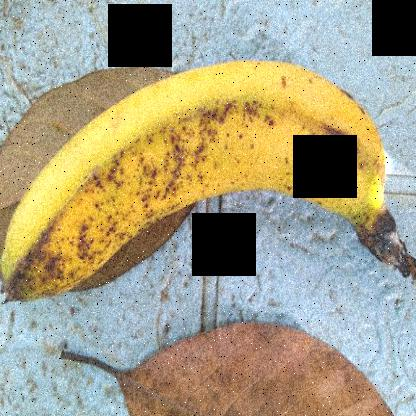ripe: (0, 43, 405, 338)
